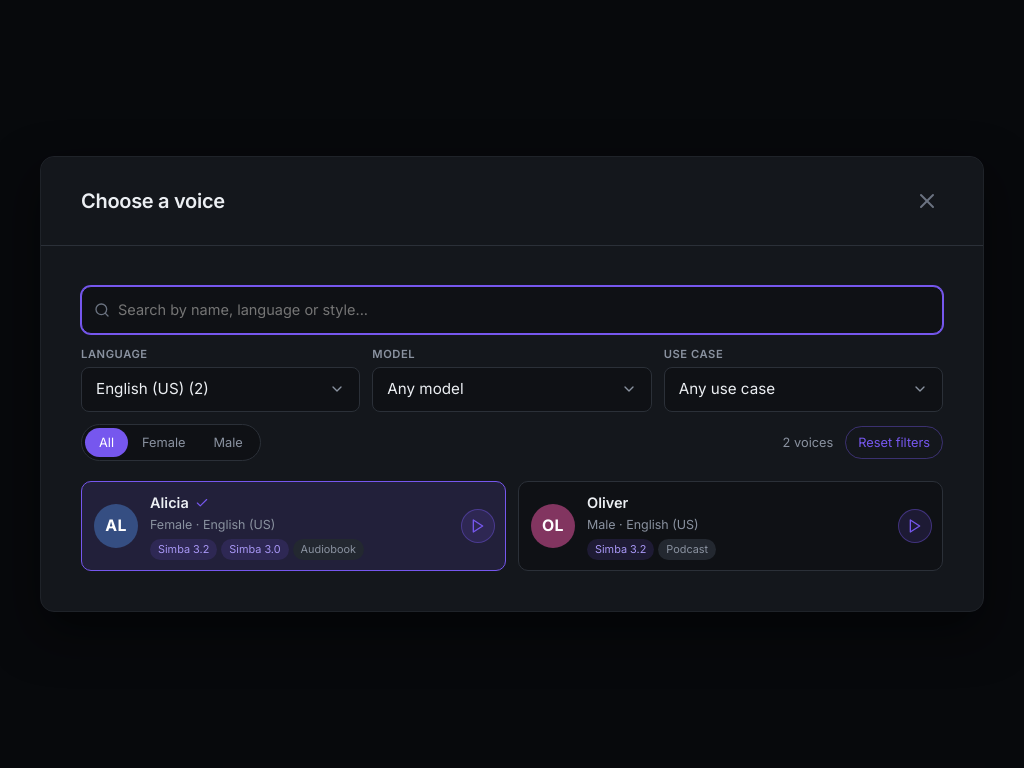
Test: VoicePickerModal › shows a way back when nothing matches and resets the filters
The width and height of the screenshot is (1024, 768).
Step 1. Type "zzzz" into the search field named "Search voices" → (524, 310), box [118,287,930,333]
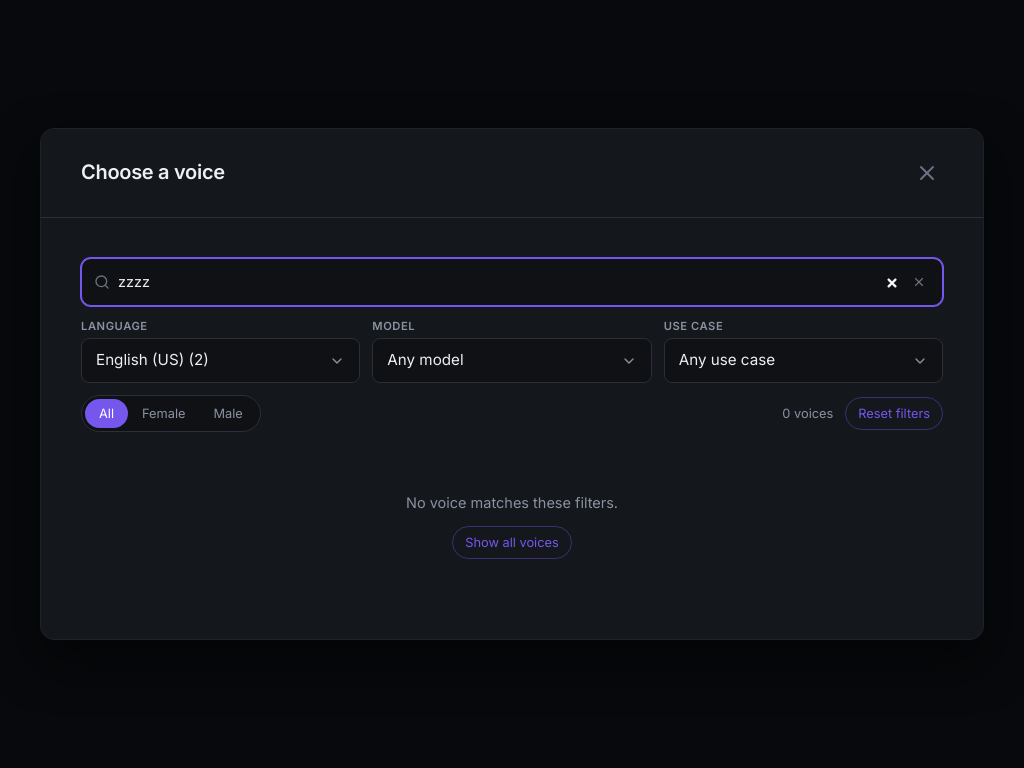
Expected: the text "No voice matches these filters." is shown, [406,492,618,514]
Step 2. Click the button "Show all voices" → (512, 543), box [452,526,572,559]
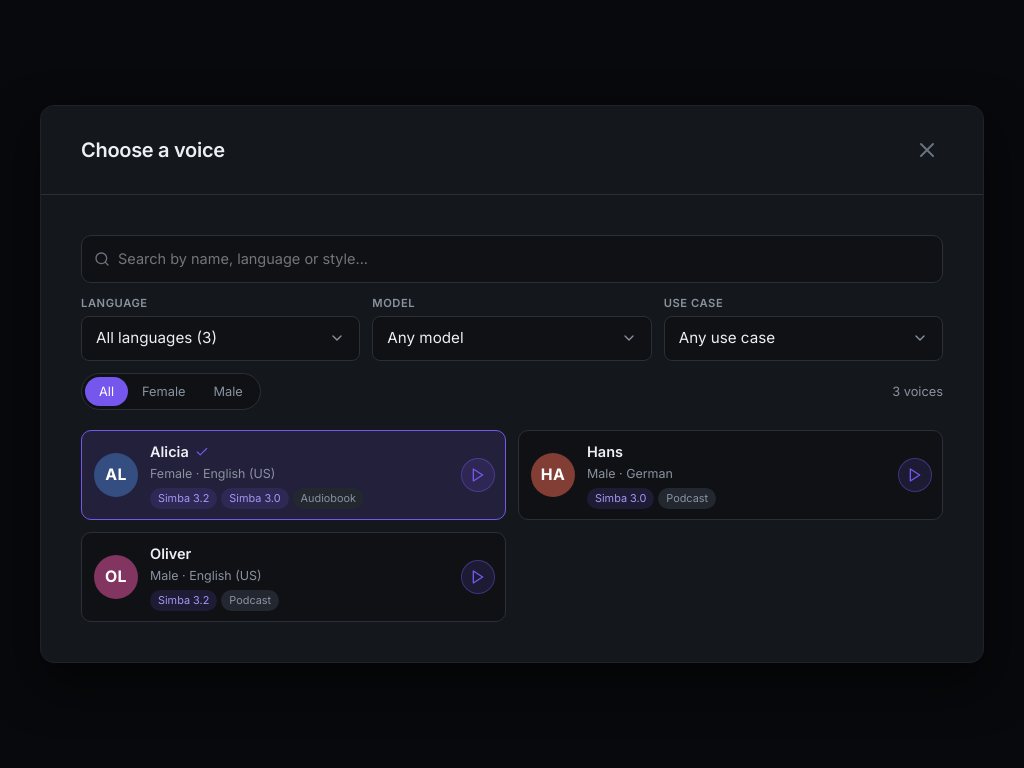
Expected: the message reads "3 voices", [892,382,943,401]
